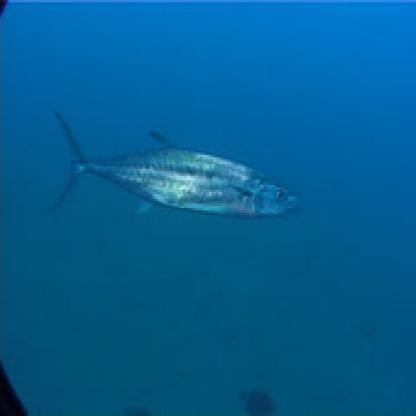Scombridae -Tunas-: (44, 107, 306, 225)
